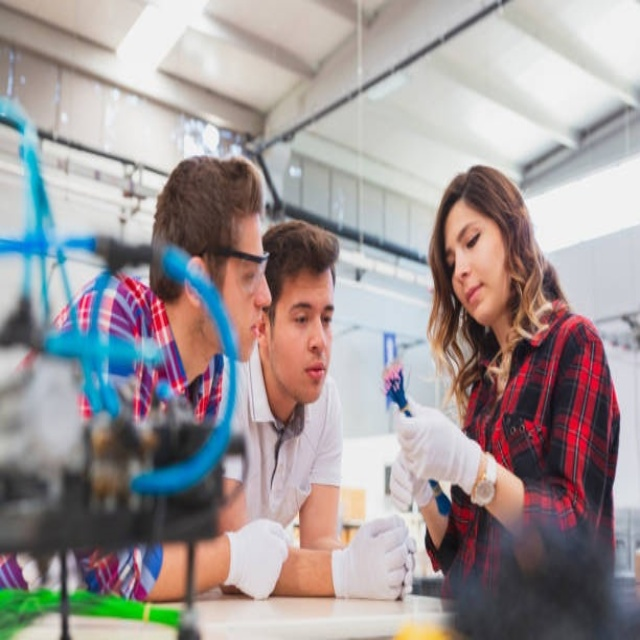Gafas: (199, 243, 272, 291)
Guantes: (394, 395, 477, 502), (331, 515, 415, 601), (221, 518, 293, 600), (389, 444, 430, 514)
Sin_gafas: (444, 212, 484, 271), (280, 292, 336, 331)
Sin_mascara: (231, 312, 266, 356), (293, 358, 328, 398), (462, 275, 487, 318)
